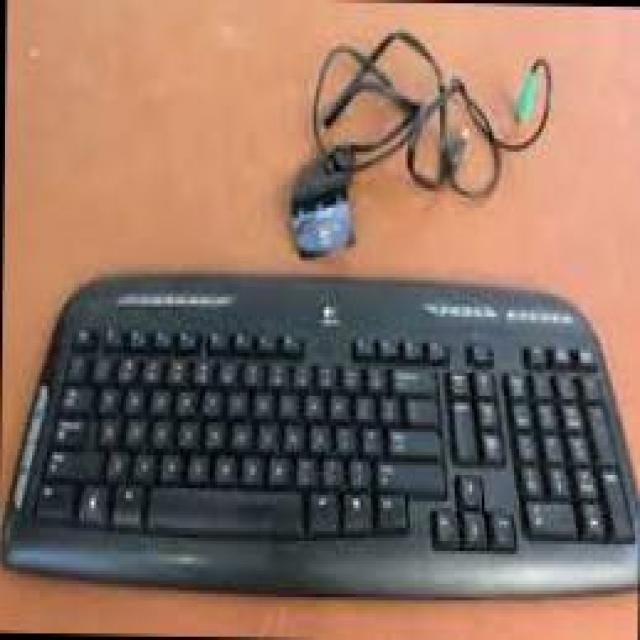keyboard: (13, 274, 638, 595)
